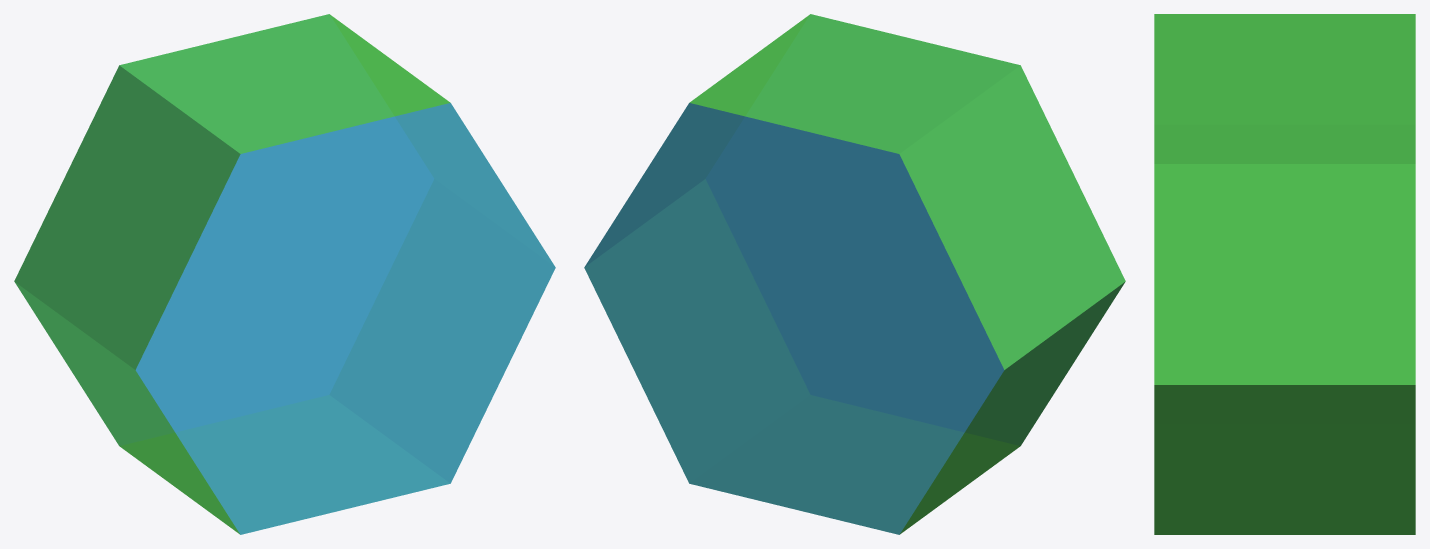
Rendered from HexagonalPrism.obj.
The picture shows the model from 3 angles, left to right: view 1: azimuth 30°, elevation 25°; view 2: azimuth 150°, elevation 25°; view 3: azimuth 270°, elevation 25°; orthographic projection. The views are drawn at different scales.
Bounding box in the file's own units: 2 × 1.73 × 1.
